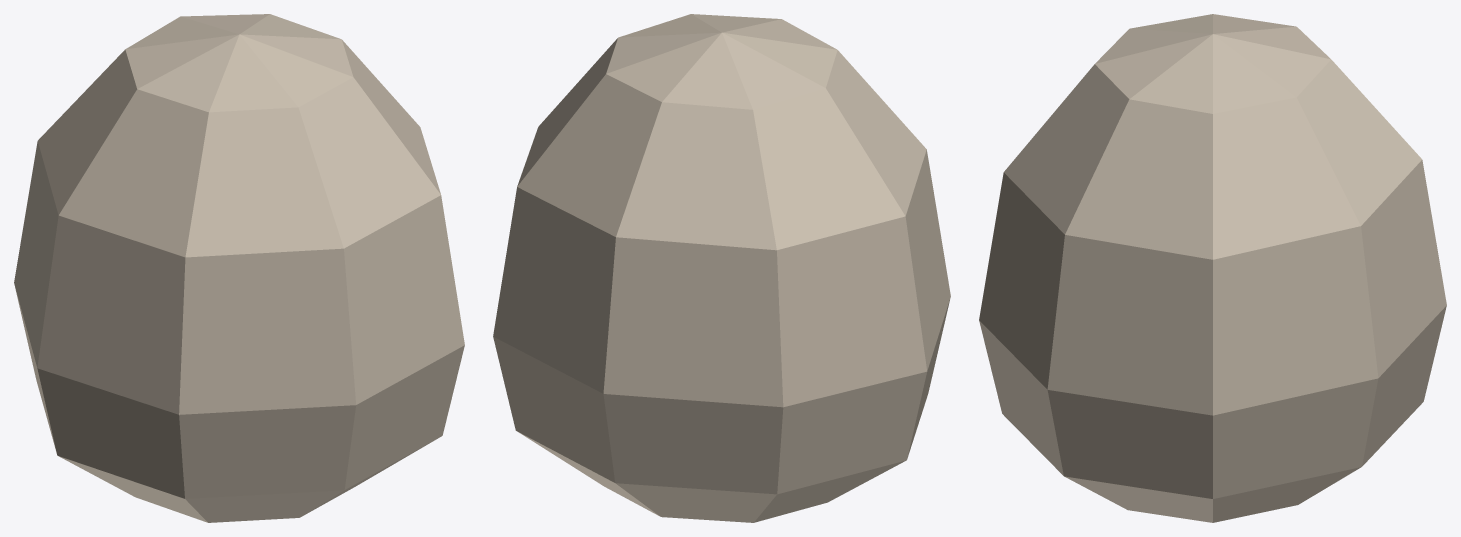
File: SM_Prop_Food_Egg_Whole_01.glb
3 views of the same model, side by side, from view 1: azimuth 30°, elevation 25°; view 2: azimuth 150°, elevation 25°; view 3: azimuth 270°, elevation 25° (orthographic).
Parts seen in each view (by area): view 1: SM_Prop_Food_Egg_Whole_01; view 2: SM_Prop_Food_Egg_Whole_01; view 3: SM_Prop_Food_Egg_Whole_01.
Part boxes in pixels (box(x1,y1,x2,y2)): SM_Prop_Food_Egg_Whole_01: box(14, 14, 464, 522); SM_Prop_Food_Egg_Whole_01: box(493, 14, 950, 522); SM_Prop_Food_Egg_Whole_01: box(979, 14, 1446, 522).
Size of the model in its own units: 0.1213 by 0.1328 by 0.1213.
1 material, 1 textured.
